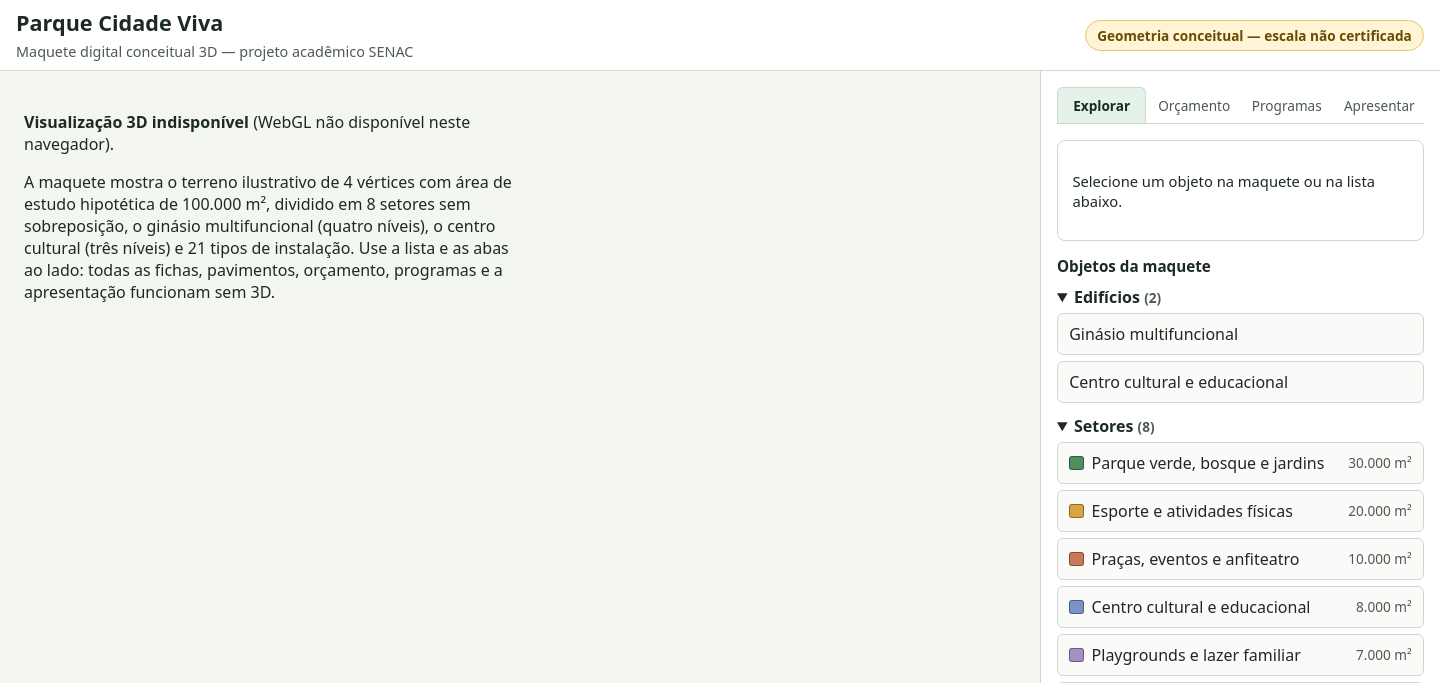
Scenario: seleção sem WebGL (lista acessível) › selecionar o ginásio abre a ficha com 4 níveis, aviso e custo "A calcular"
The image size is (1440, 683).
Click the button "Ginásio multifuncional": x=1240, y=334 [1057, 313, 1424, 354]
(page scrolled)
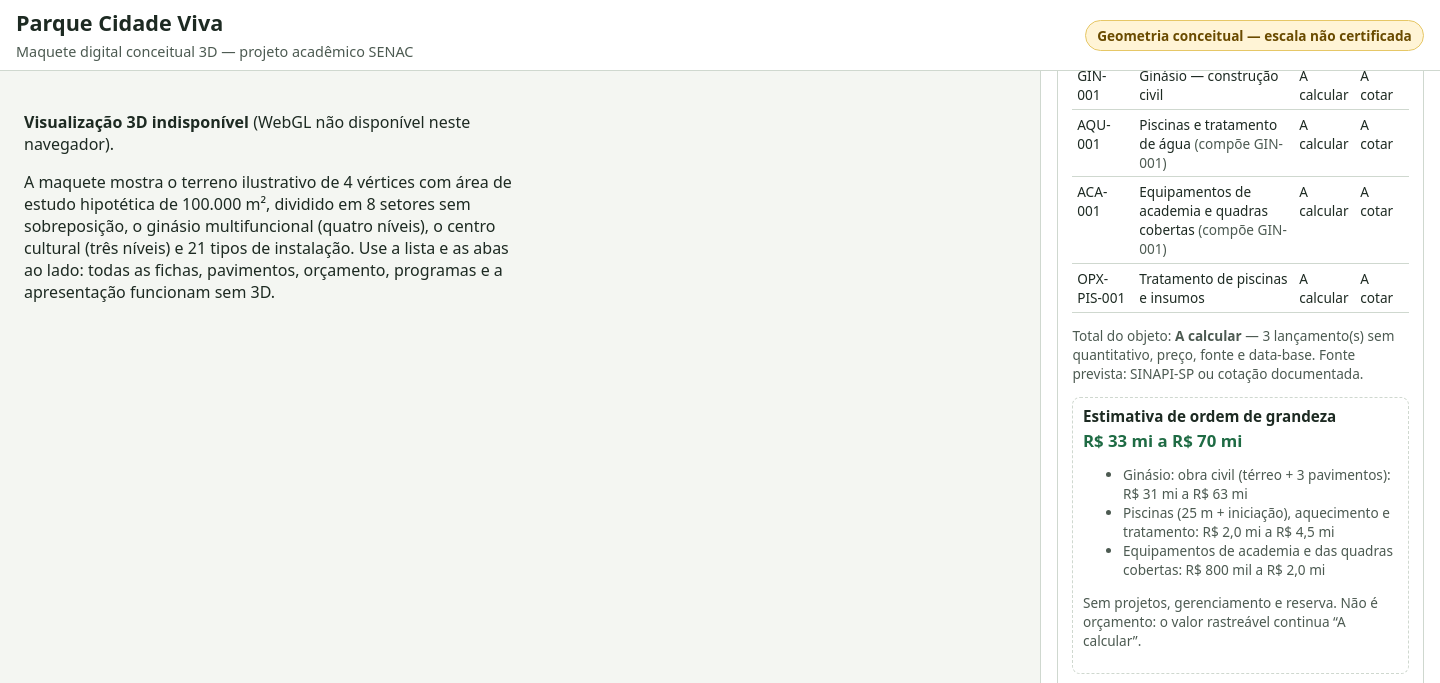
expect the cell with test id "custo-GIN-001" reads "A calcular": met, box [1299, 72, 1348, 104]
expect the element with test id "estimativa-objeto-ginasio-multifuncional" reads "R$ 33 mi a R$ 70 mi": met, box [1083, 429, 1242, 452]
